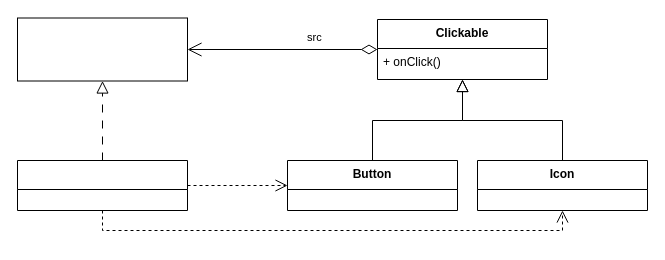
The diagram is 665 pixels wide and 260 high, and some of its shapes have lost their labels. The shapes that lost their labels are listed below. From the top down, each one's centre as x and y in pixels, then its label:
the point at 102,49: <<Interface>> ActionSource + performed(Clickable comp)
the point at 102,185: Panel
